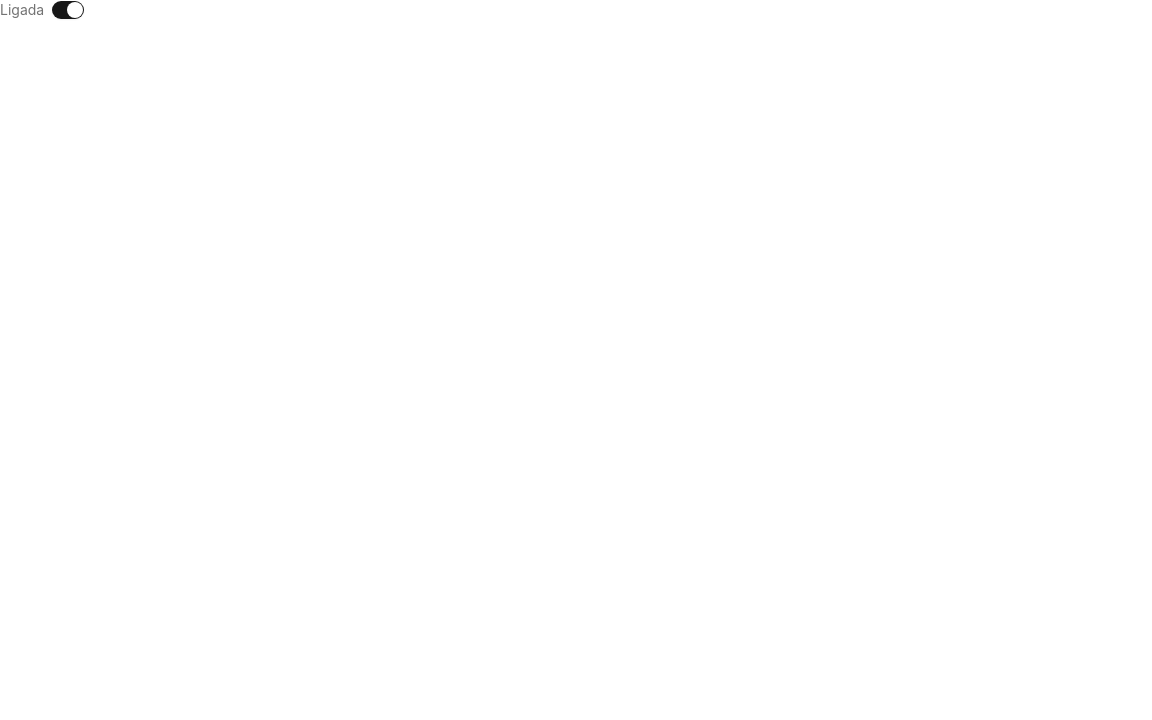
Test: ExtensionToggle › desligar sem gravação pede uma confirmação
Later steps or results of the test are not shown.
Click the switch named "Ligar ou desligar a extensão": (68, 10) [52,1,84,19]
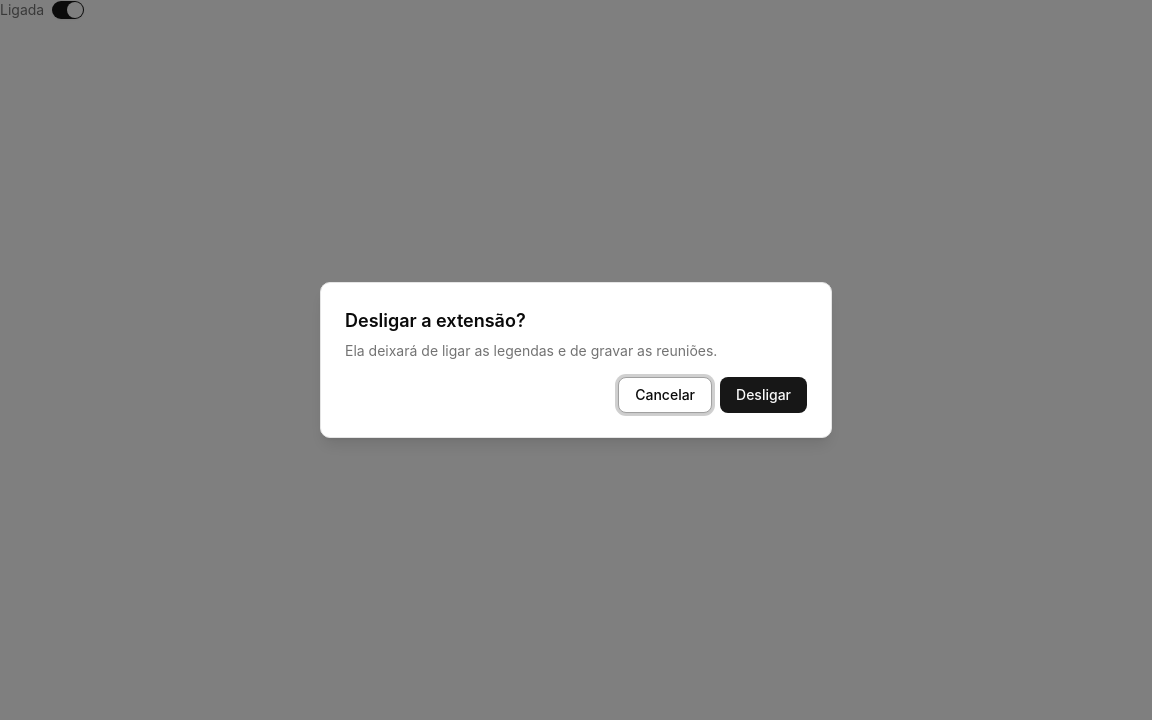
Result: the heading "Desligar a extensão?" is shown at [345,307,526,335]
